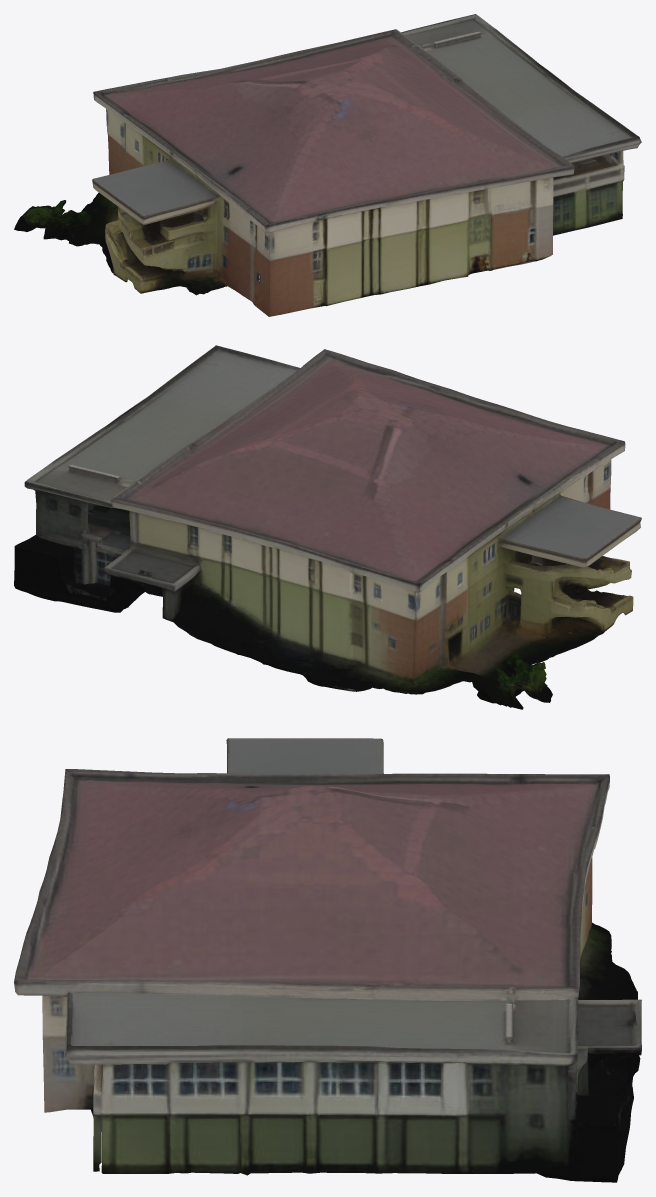
3 renders of one model, top to bottom at view 1: azimuth 30°, elevation 25°; view 2: azimuth 150°, elevation 25°; view 3: azimuth 270°, elevation 25°, orthographic. The views are drawn at different scales.
Bounding box in the file's own units: 0.977 × 0.3249 × 0.748.
1 material, 1 textured.
